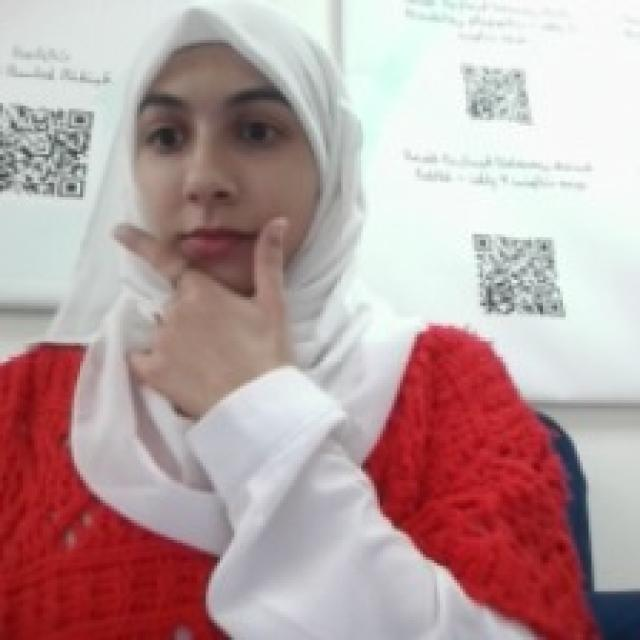smile: (106, 209, 306, 374)
